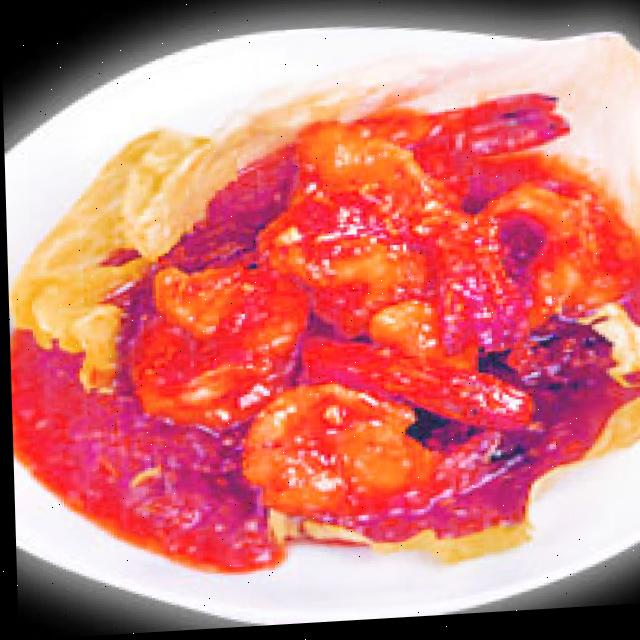熟制海鲜: (1, 4, 640, 640)
